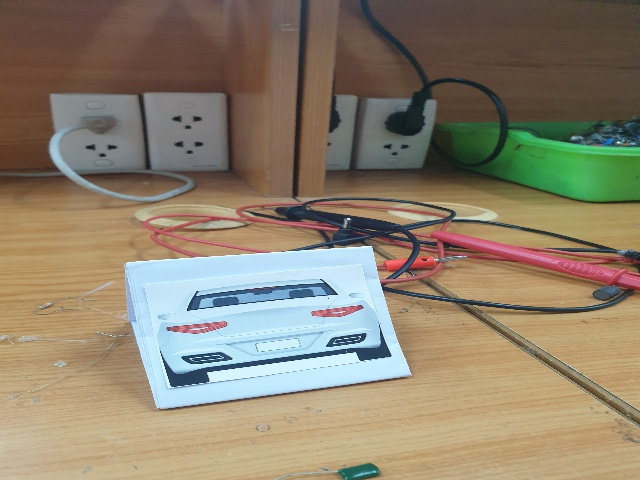Car: (152, 277, 394, 389)
